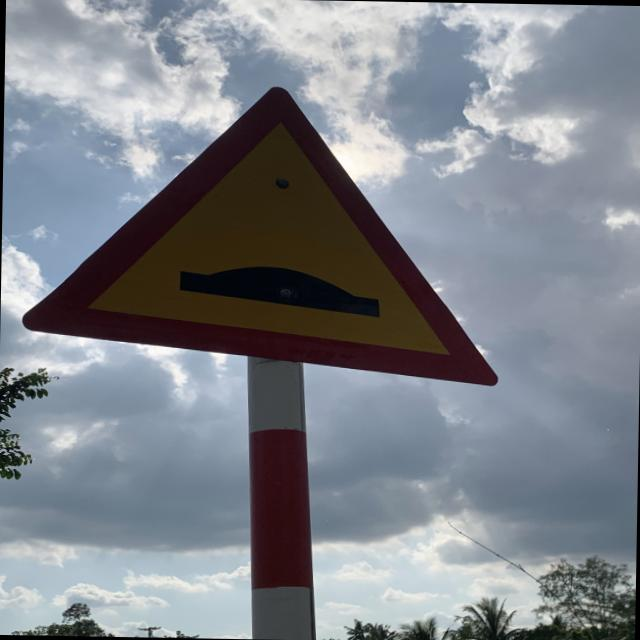Duong_Cong_Ben_Phai: (24, 82, 508, 384)
